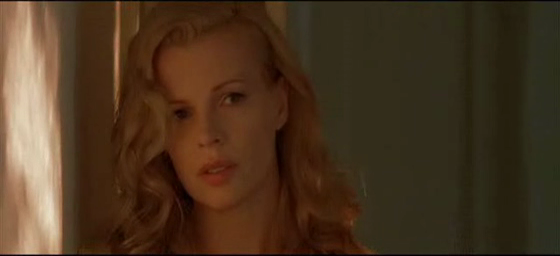cu: (1, 1, 560, 256)
face: (159, 43, 273, 212)
person: (99, 1, 376, 256)
